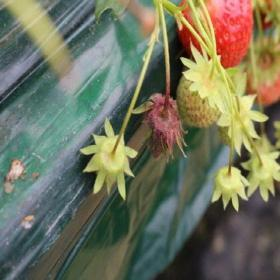Gray Mold: (142, 84, 190, 163)
